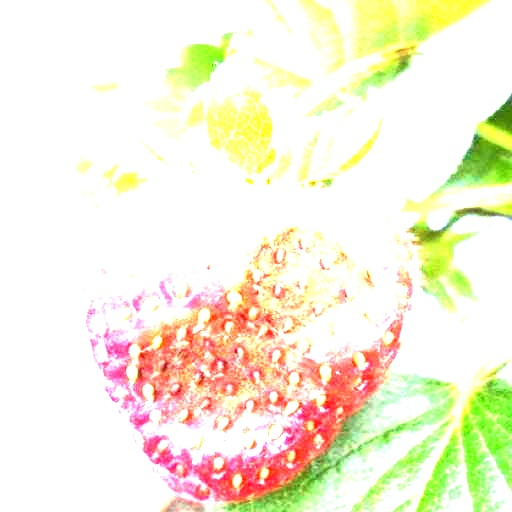Anthracnose Fruit Rot: (98, 213, 401, 465)
